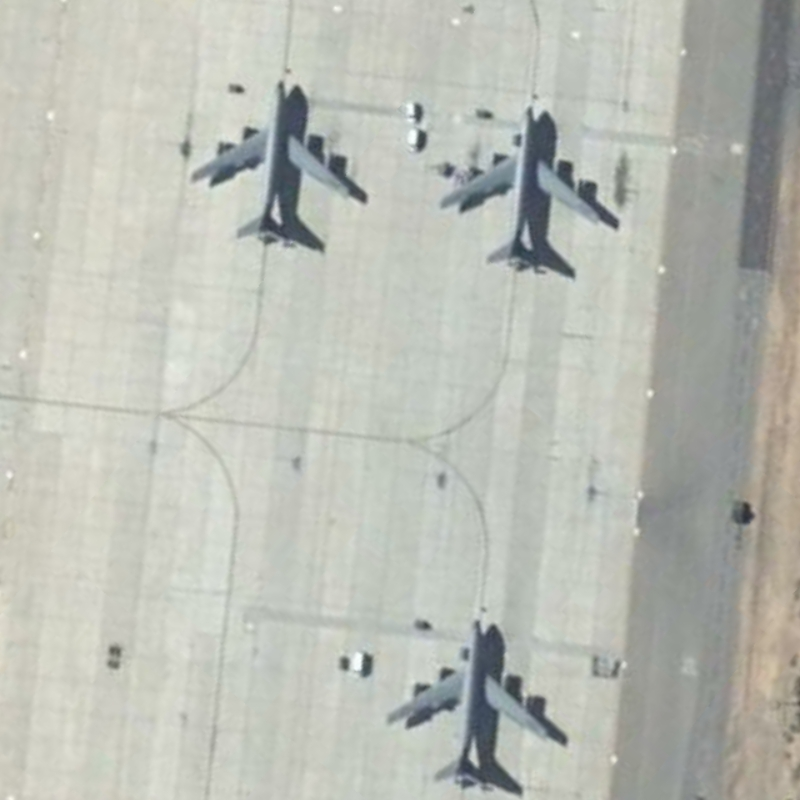A14: (382, 612, 564, 794), (183, 72, 360, 256), (433, 102, 613, 278)
